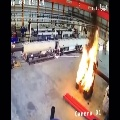fire: (76, 30, 98, 92)
